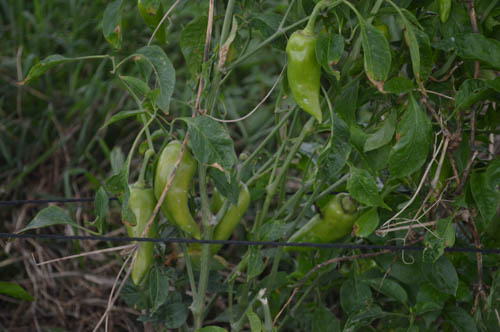ChiliPepper: (154, 142, 198, 240), (121, 189, 158, 289), (286, 196, 352, 251), (286, 32, 324, 125), (205, 185, 246, 253)
